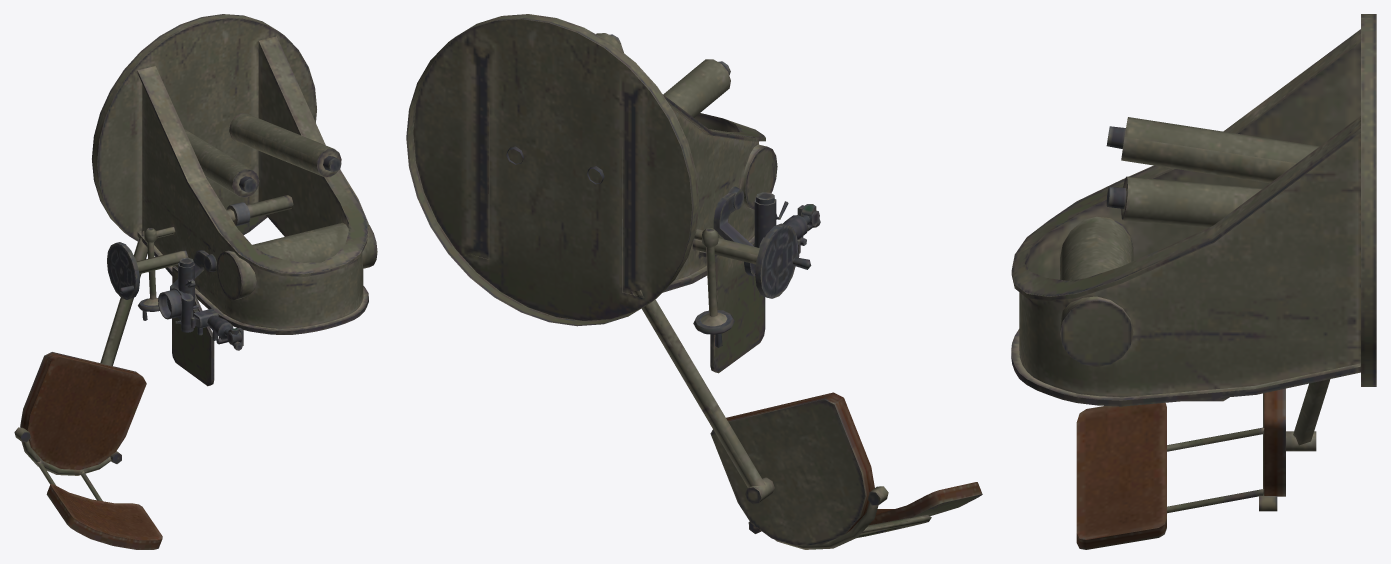
The model's file is Turret_01.glb.
3 renders of one model, left to right at view 1: azimuth 30°, elevation 25°; view 2: azimuth 150°, elevation 25°; view 3: azimuth 270°, elevation 25°, orthographic. The views are drawn at different scales.
Visible parts, largest first — view 1: set_0_group_0; view 2: set_0_group_0; view 3: set_0_group_0.
Boxes of the visible parts, x1=… form: set_0_group_0: x1=14, y1=14, x2=377, y2=549; set_0_group_0: x1=406, y1=14, x2=982, y2=549; set_0_group_0: x1=1011, y1=14, x2=1376, y2=549.
Size of the model in its own units: 1.88 by 2.2 by 1.18.
Materials: 1 (1 with a texture image).
